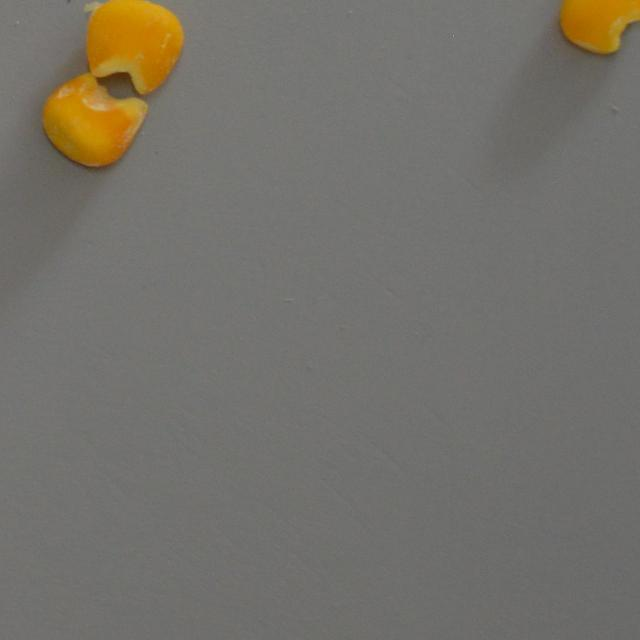no_canjicado: (553, 0, 640, 58)
pelicula: (40, 70, 150, 172), (81, 0, 186, 97)
